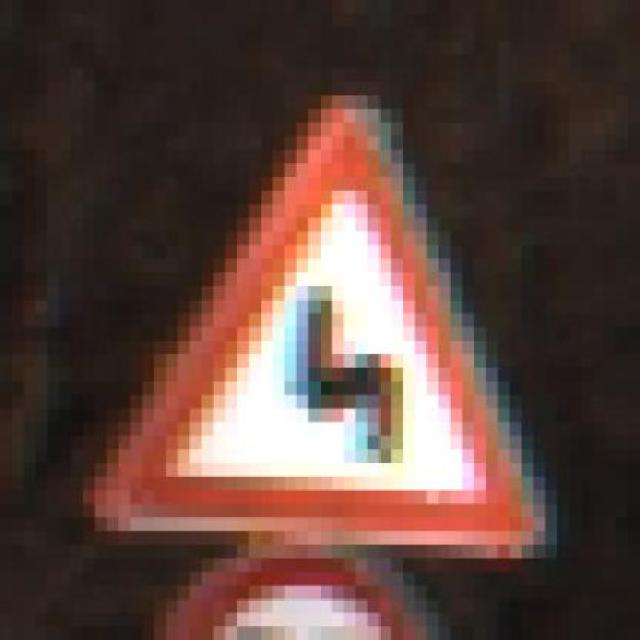Left Zig Zag Traffic: (94, 82, 568, 586)
